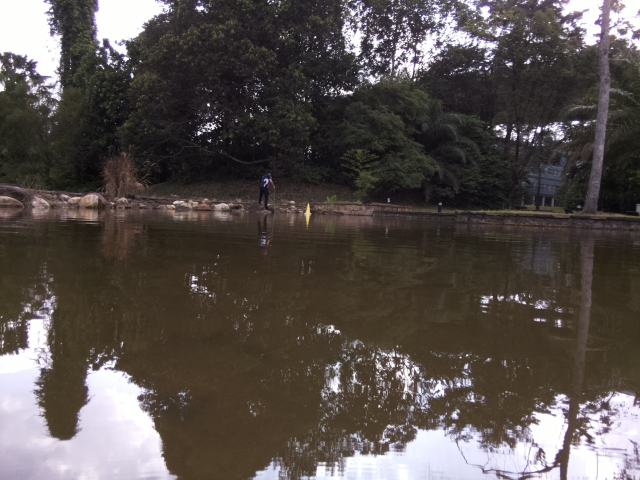checkpoint: (302, 202, 314, 216)
